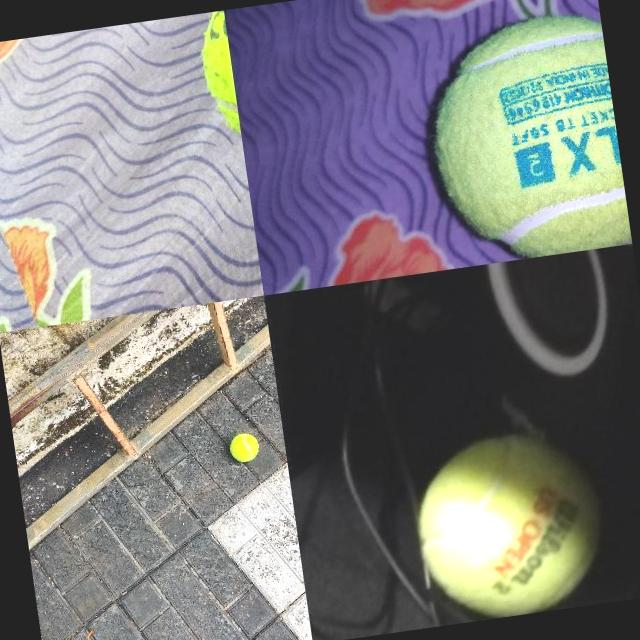tennis-ball: (419, 7, 631, 268), (407, 422, 612, 626), (228, 432, 261, 464)
